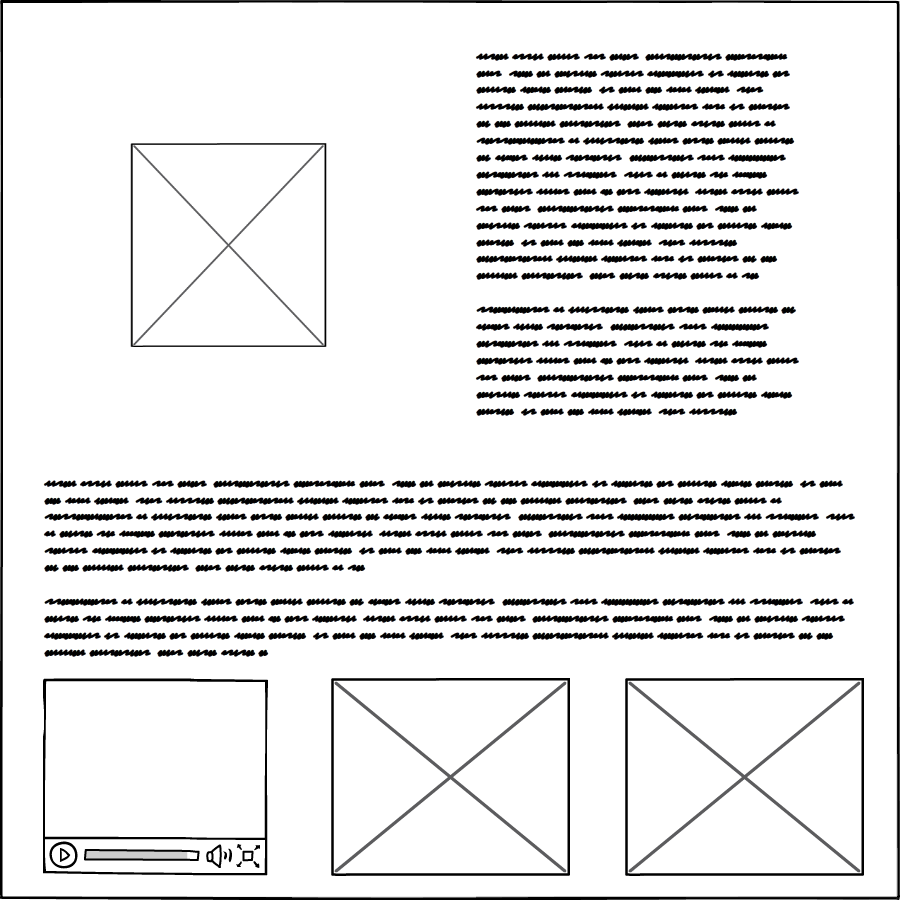image: (326, 673, 578, 881), (620, 675, 870, 882), (126, 137, 330, 351)
p: (33, 469, 868, 662), (470, 47, 815, 425)
video: (44, 673, 272, 885)
